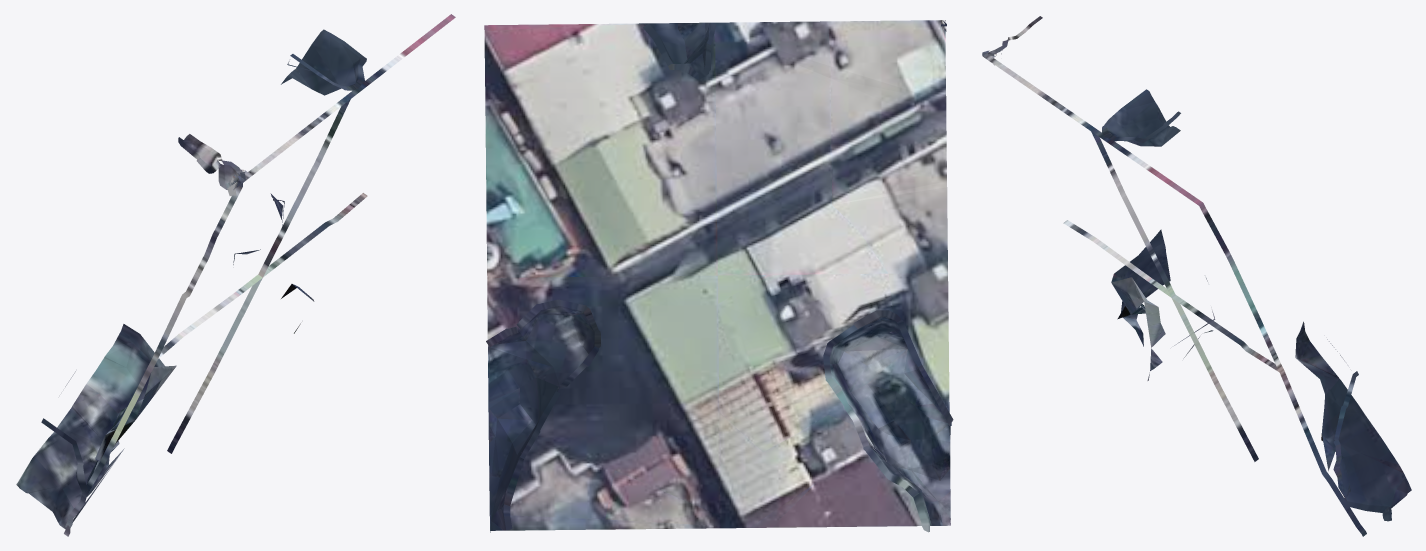
3 views of the same model, side by side, from view 1: azimuth 30°, elevation 25°; view 2: azimuth 150°, elevation 25°; view 3: azimuth 270°, elevation 25° (orthographic). The views are drawn at different scales.
Size of the model in its own units: 39.47 by 37.09 by 35.96.
1 material, 1 textured.
